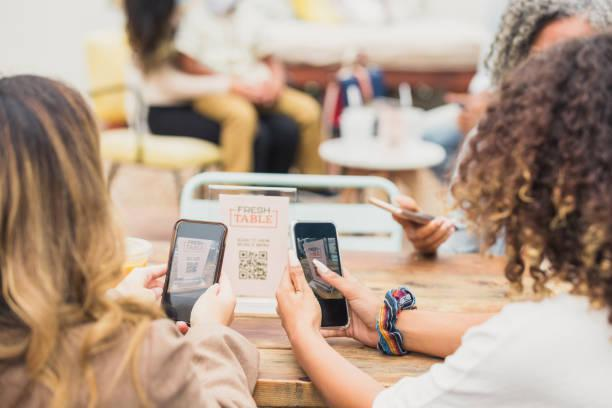Finder pattern: (237, 269, 252, 282), (257, 249, 270, 262), (237, 248, 251, 260)
